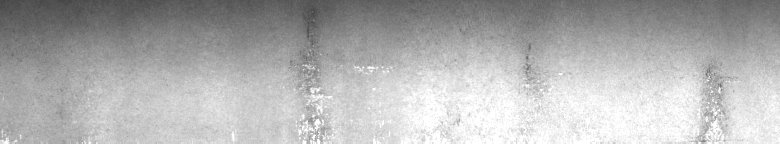hc: (289, 9, 392, 136)
